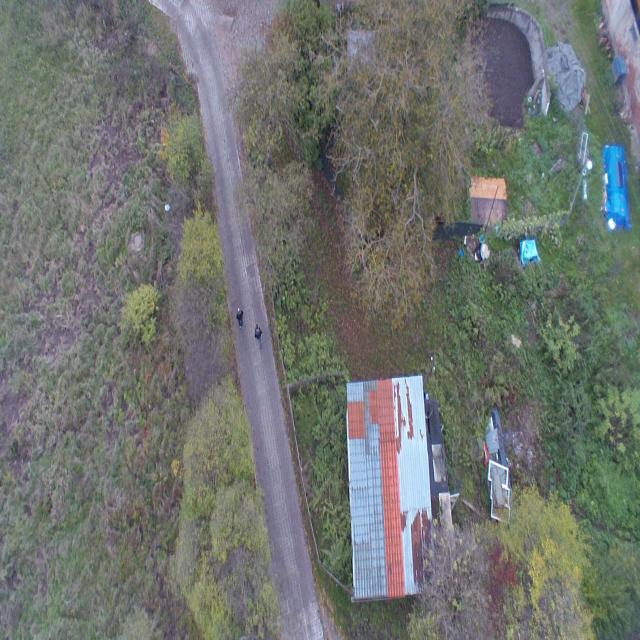p3rson: (255, 325, 263, 352), (236, 308, 244, 328)
